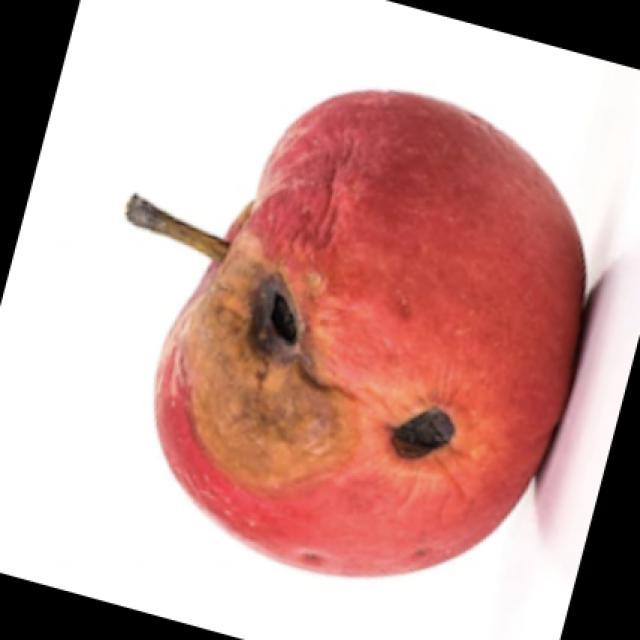Rotten: (125, 87, 577, 573)
